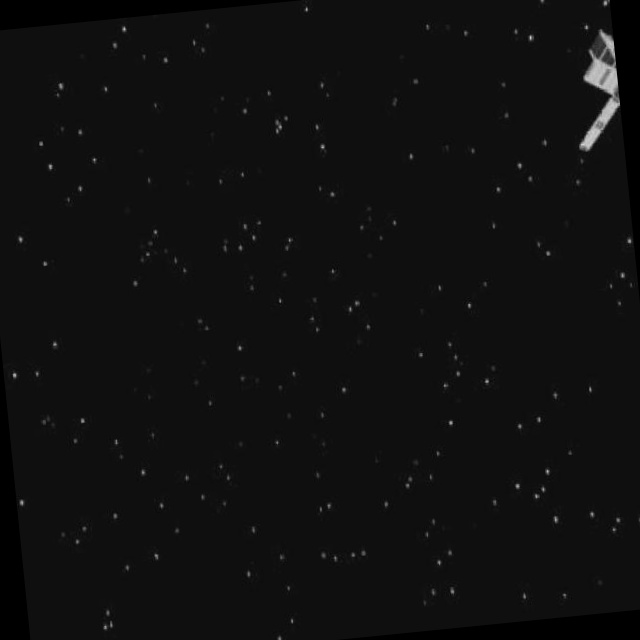satellite: (561, 28, 625, 160)
